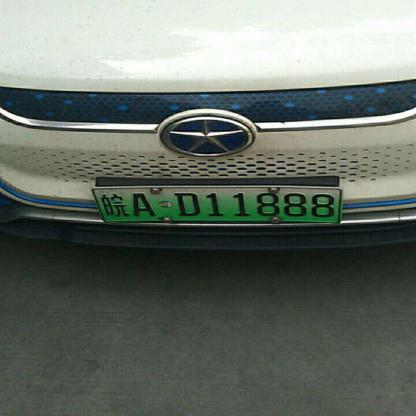lp: (93, 189, 339, 221)
